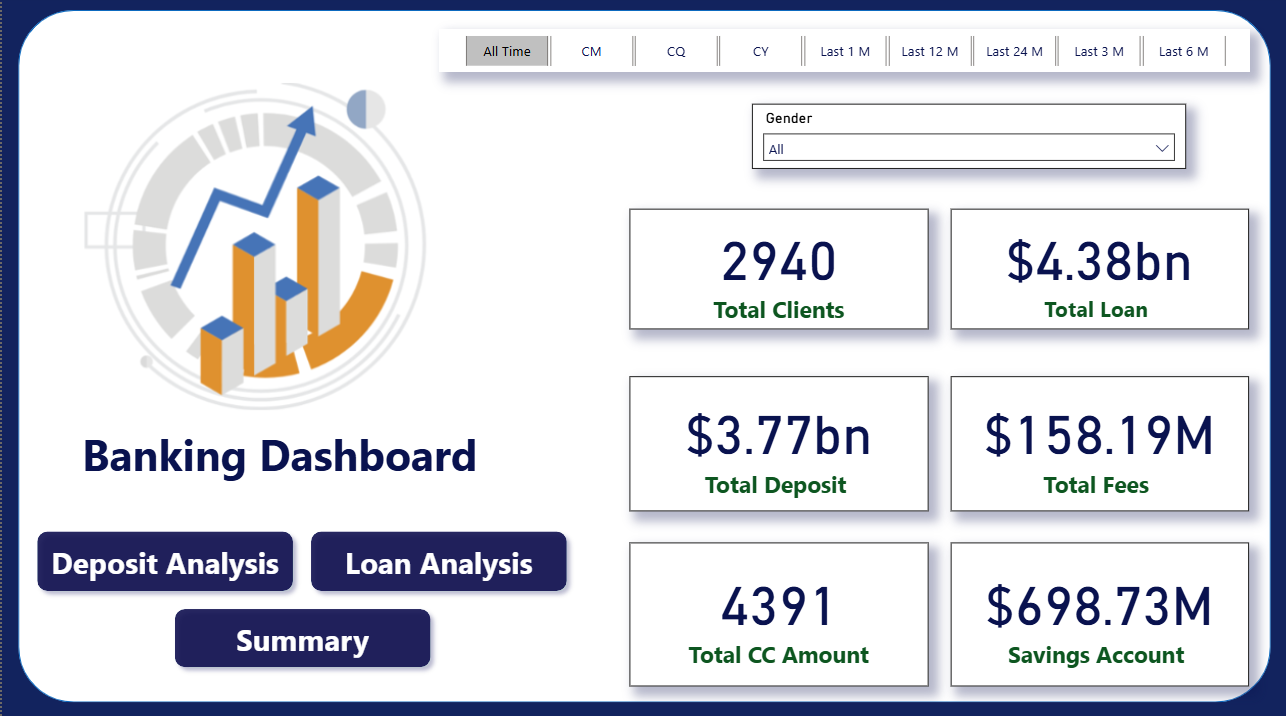

The dashboard page shown, as its layout file describes it:
{"tool":"powerbi","page":{"name":"Home","canvas":[1280,720],"ordinal":0},"visuals":[{"type":"shape","box":[16.2,14.9,1246.4,689.2],"z":0},{"type":"actionButton","box":[298.6,525,272.4,77.1],"z":1000},{"type":"actionButton","box":[26.1,525,272.4,77.1],"z":2000},{"type":"actionButton","box":[163,602.1,272.4,75.9],"z":3000},{"type":"image","box":[27.4,77.1,482.7,345.8],"z":4000},{"type":"textbox","box":[74.6,422.9,419.2,75.9],"z":5000},{"type":"slicer","fields":{"Values":["Period.Name"]},"box":[435.4,33.6,806.1,43.5],"z":6000},{"type":"slicer","fields":{"Values":["Gender.Gender"]},"box":[746.4,108.2,431.7,64.7],"z":7000},{"type":"card","fields":{"Values":["Dax Measures.Total Clients"]},"box":[624.7,212.6,297.9,120],"z":8000},{"type":"card","fields":{"Values":["Dax Measures.Total Loan"]},"box":[944.3,212.6,296.4,120],"z":9000},{"type":"card","fields":{"Values":["Dax Measures.Total Deposit"]},"box":[624.7,378.9,297.9,134.5],"z":10000},{"type":"card","fields":{"Values":["Dax Measures.Total Fees"]},"box":[944.3,378.9,296.4,134.5],"z":11000},{"type":"card","fields":{"Values":["Dax Measures.Total CC Amount"]},"box":[624.7,545.2,297.9,143.2],"z":12000},{"type":"card","fields":{"Values":["Dax Measures.Savings Account"]},"box":[944.3,545.2,296.4,143.2],"z":13000}]}

Visuals, with their boxes in screenshot pixels (x1, y1, x2, y2), scaled from the page's 1280x720 canvas onto the 1286x716 screenshot:
shape: {"x1": 16, "y1": 15, "x2": 1269, "y2": 700}
actionButton: {"x1": 300, "y1": 522, "x2": 574, "y2": 599}
actionButton: {"x1": 26, "y1": 522, "x2": 300, "y2": 599}
actionButton: {"x1": 164, "y1": 599, "x2": 437, "y2": 674}
image: {"x1": 28, "y1": 77, "x2": 512, "y2": 421}
textbox: {"x1": 75, "y1": 421, "x2": 496, "y2": 496}
slicer - Period.Name: {"x1": 437, "y1": 33, "x2": 1247, "y2": 77}
slicer - Gender.Gender: {"x1": 750, "y1": 108, "x2": 1184, "y2": 172}
card - Dax Measures.Total Clients: {"x1": 628, "y1": 211, "x2": 927, "y2": 331}
card - Dax Measures.Total Loan: {"x1": 949, "y1": 211, "x2": 1247, "y2": 331}
card - Dax Measures.Total Deposit: {"x1": 628, "y1": 377, "x2": 927, "y2": 511}
card - Dax Measures.Total Fees: {"x1": 949, "y1": 377, "x2": 1247, "y2": 511}
card - Dax Measures.Total CC Amount: {"x1": 628, "y1": 542, "x2": 927, "y2": 685}
card - Dax Measures.Savings Account: {"x1": 949, "y1": 542, "x2": 1247, "y2": 685}
